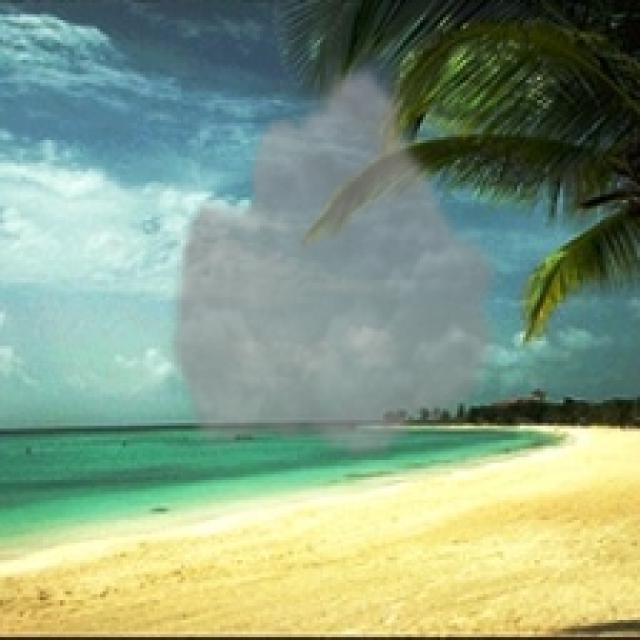Smoke: (163, 57, 508, 463)
